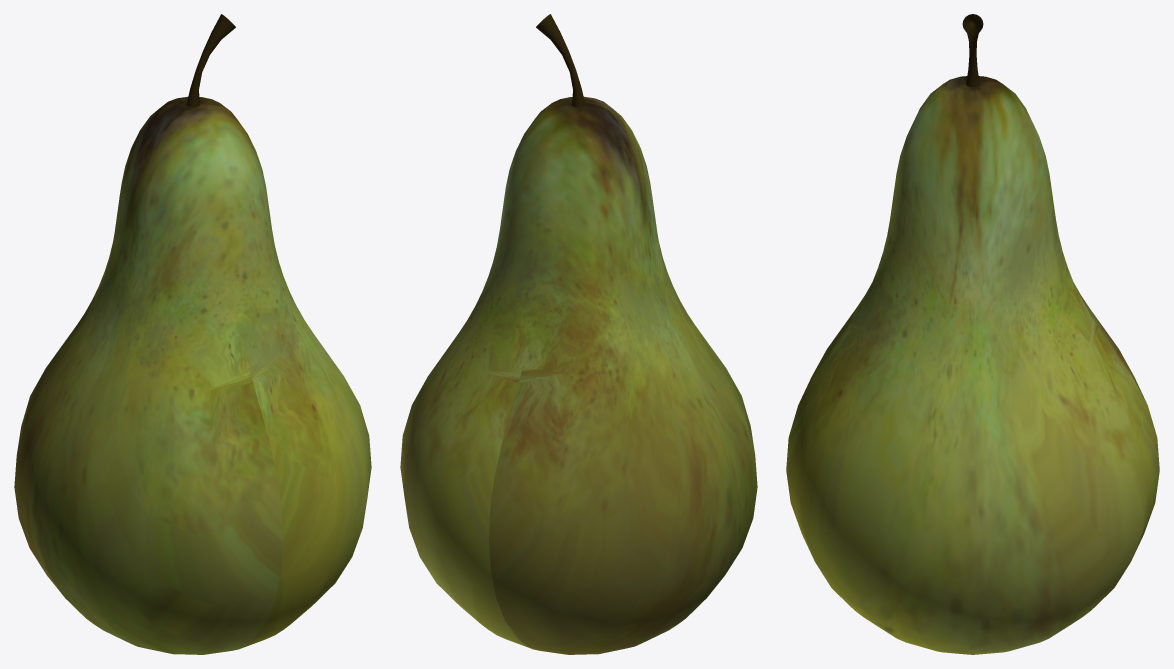
Rendered from Pear.fbx.
The picture shows the model from 3 angles, left to right: view 1: azimuth 30°, elevation 25°; view 2: azimuth 150°, elevation 25°; view 3: azimuth 270°, elevation 25°; orthographic projection. The views are drawn at different scales.
Visible parts, largest first — view 1: pear_obj; view 2: pear_obj; view 3: pear_obj.
Part boxes in pixels (box(x1,y1,x2,y2)): pear_obj: box(14, 14, 371, 654); pear_obj: box(400, 14, 757, 654); pear_obj: box(786, 14, 1159, 654).
Bounding box in the file's own units: 601 × 1123 × 601.
